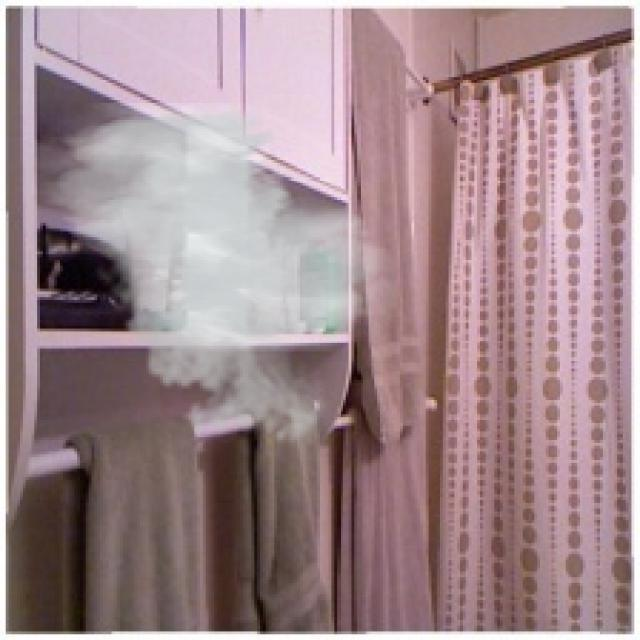Smoke: (37, 102, 397, 454)
